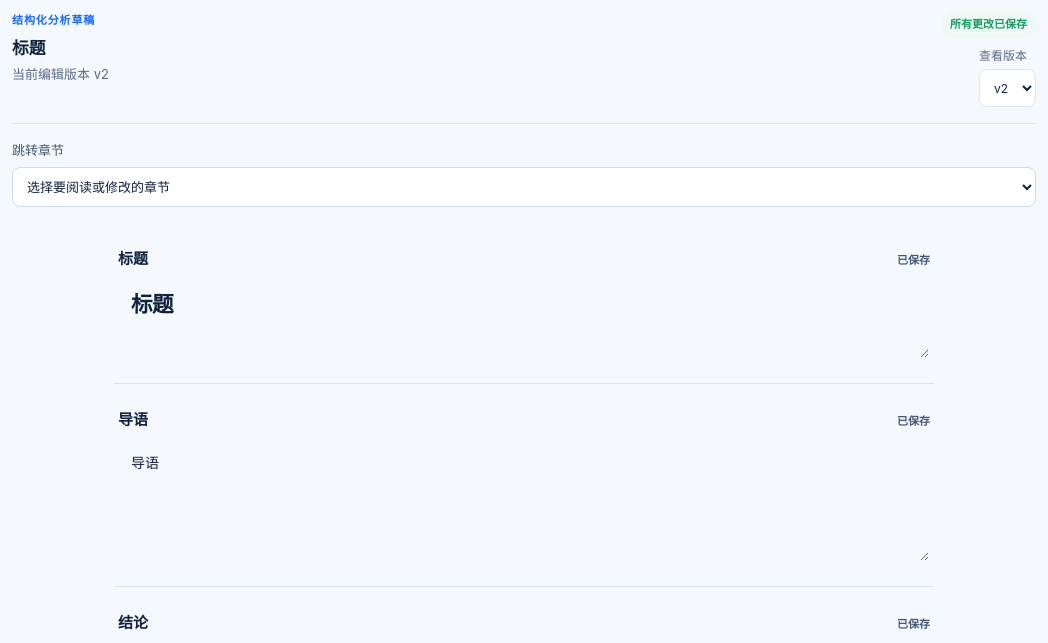
it: keeps historical versions read-only and outside autosave
Step 1. Select "v1" in the dropdown named "查看草稿版本" → (1008, 88), box [979,69,1036,107]
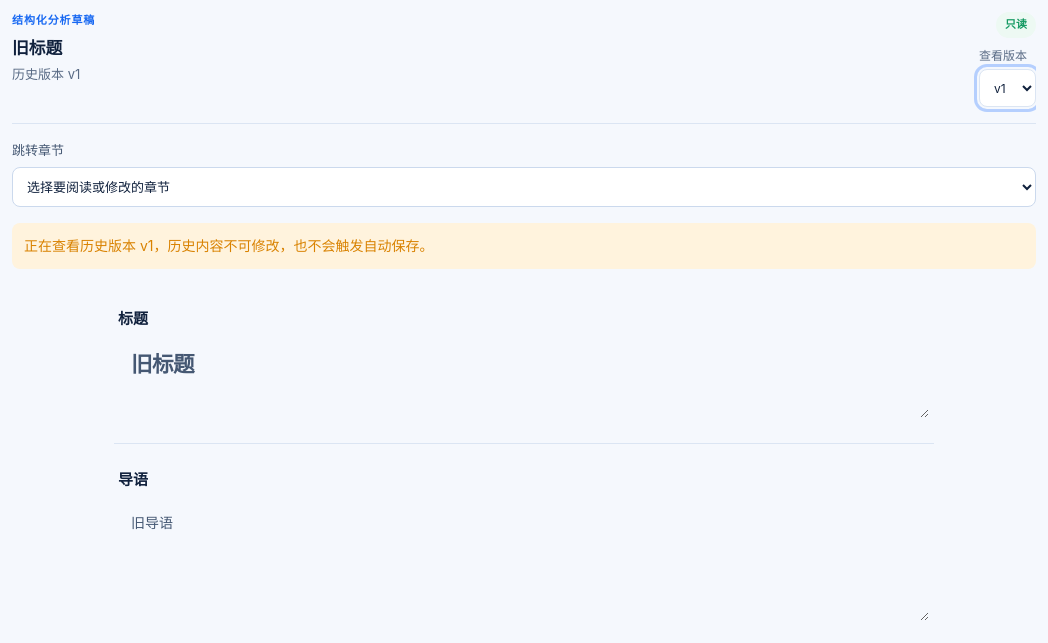
expect the text box labelled "导语" holds "旧导语": met, box [118,500,930,622]
expect the text "正在查看历史版本 v1，历史内容不可修改，也不会触发自动保存。" is shown: met, box [12,223,1036,269]
